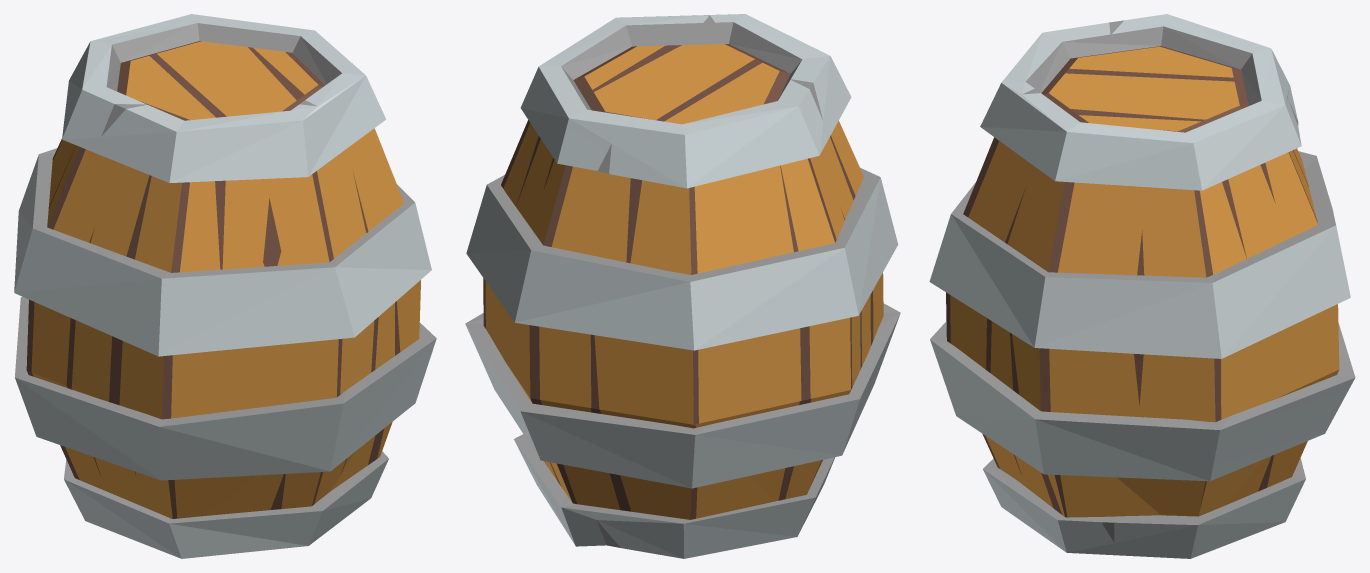
File: Barrel.fbx
The picture shows the model from 3 angles, left to right: view 1: azimuth 30°, elevation 25°; view 2: azimuth 150°, elevation 25°; view 3: azimuth 270°, elevation 25°; orthographic projection.
Parts seen in each view (by area): view 1: Barrel; view 2: Barrel; view 3: Barrel.
Boxes of the visible parts, <box> form: Barrel: <box>14,14,436,558</box>; Barrel: <box>465,14,900,558</box>; Barrel: <box>929,14,1355,558</box>.
Bounding box in the file's own units: 0.5665 × 0.6361 × 0.5714.
